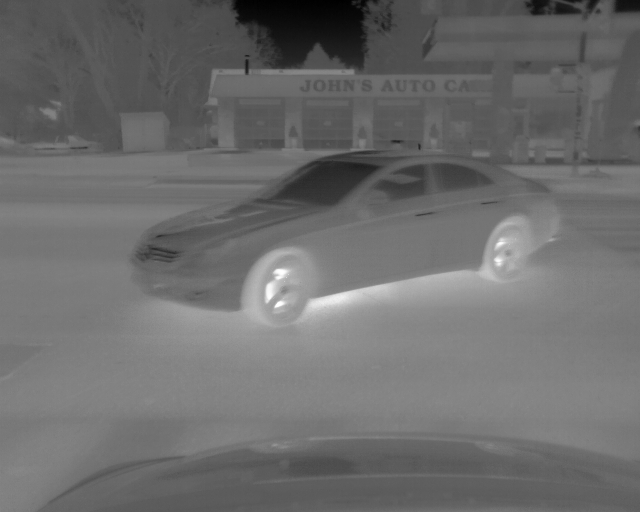car: (130, 143, 564, 329)
